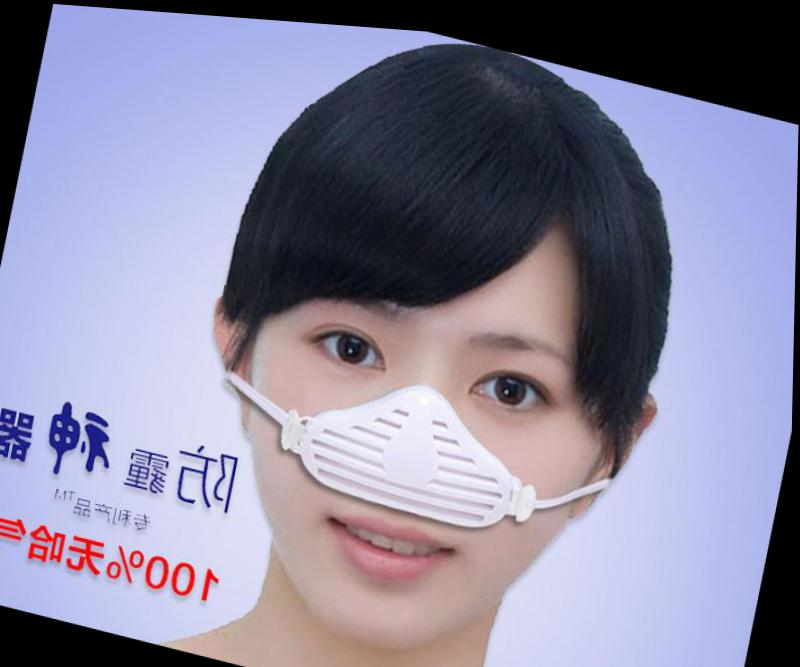WRONG: (207, 241, 636, 667)
